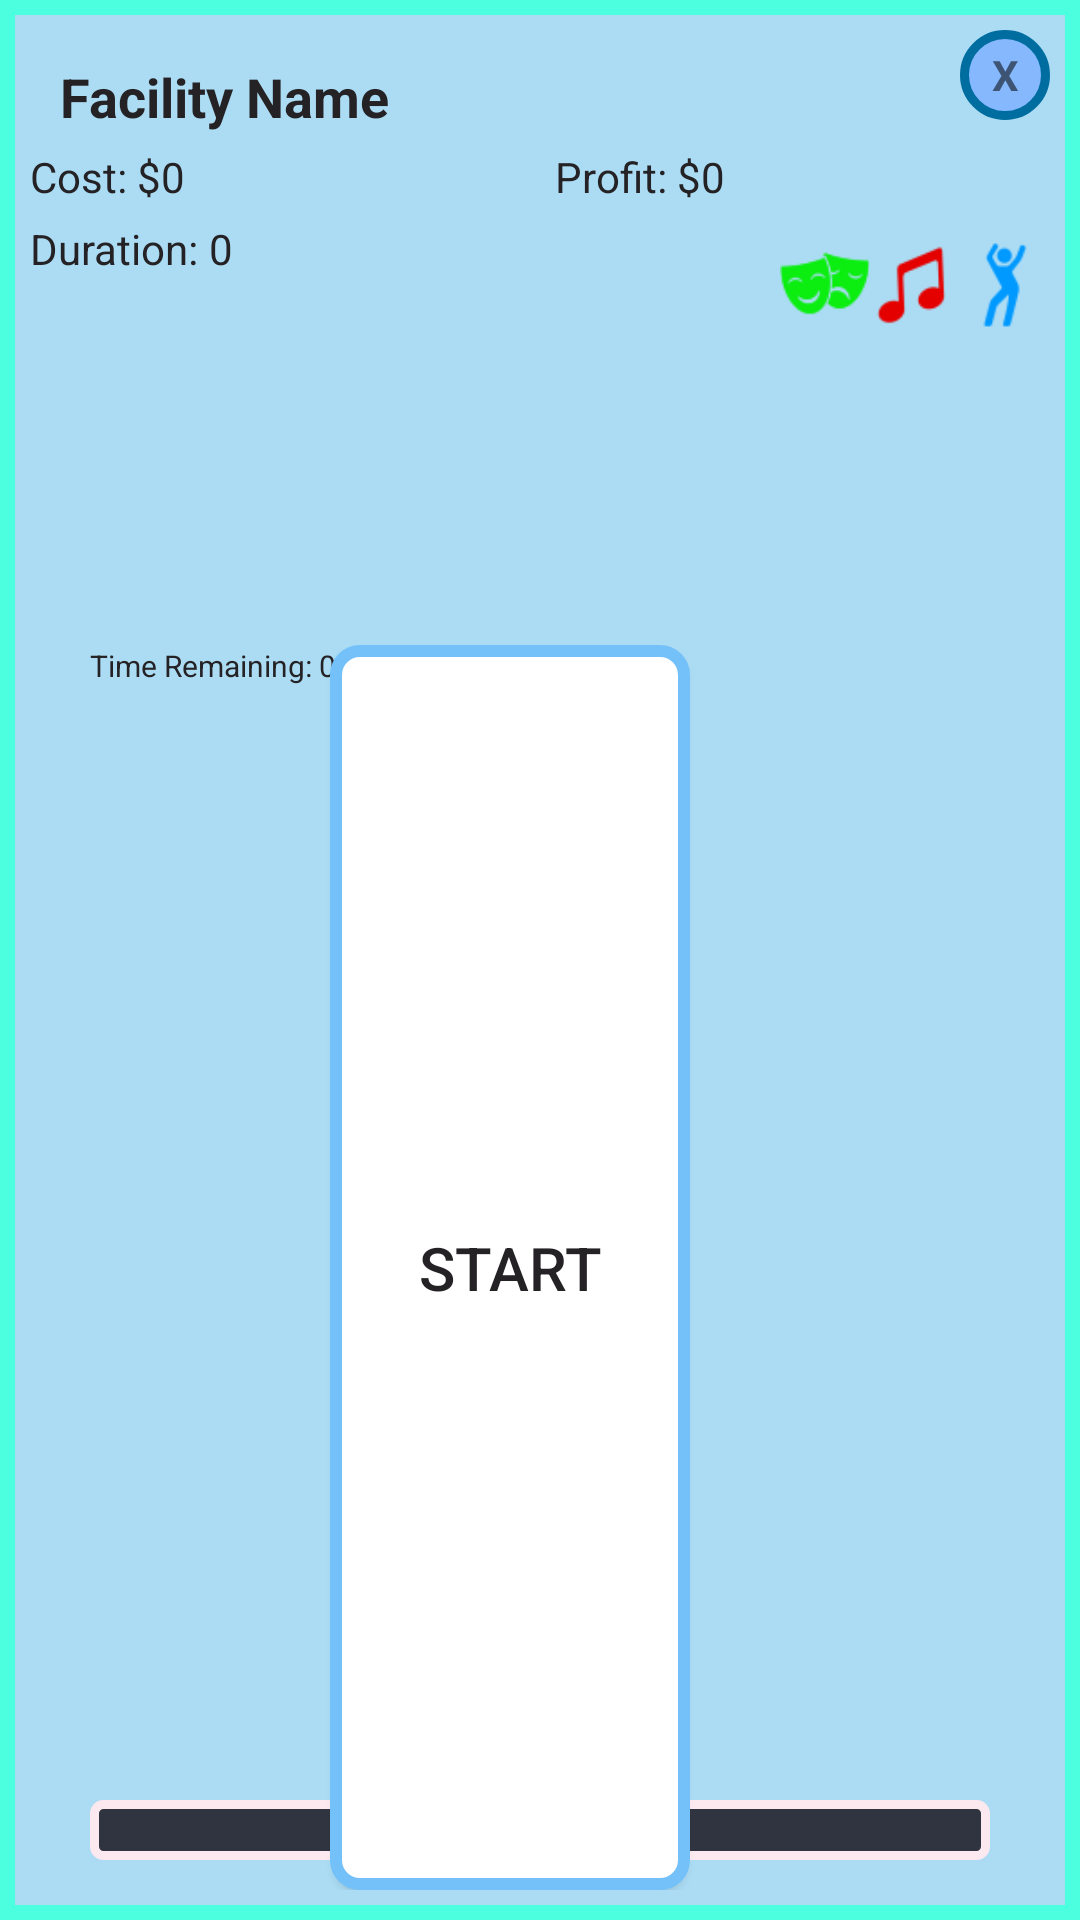

Point at icon controls on the screen. Image size 1080×1920, points as point (x, y).
affinity act: point (825, 283)
affinity dance: point (1005, 285)
affinity sing: point (911, 285)
